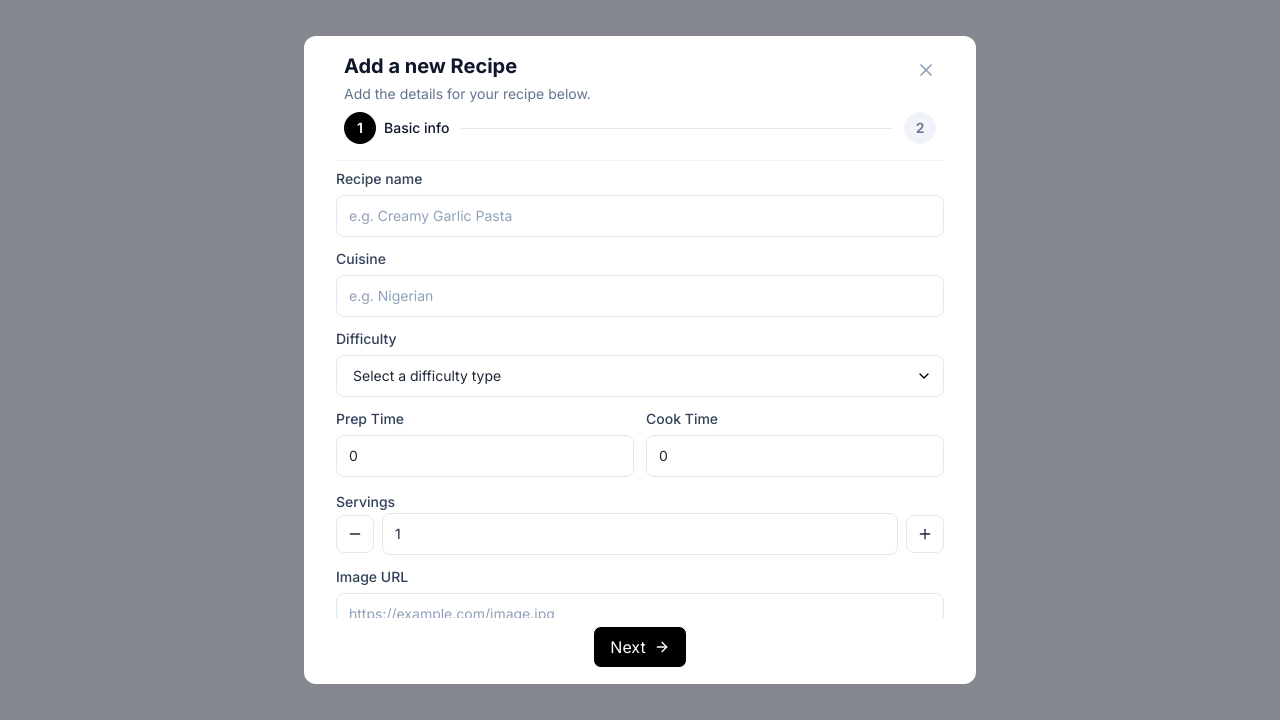
Scenario: AddRecipeModal › allows adding another instruction
Type "Jollof Rice" into the field labelled "Recipe name" at point(640, 216), box [336,195,944,237]
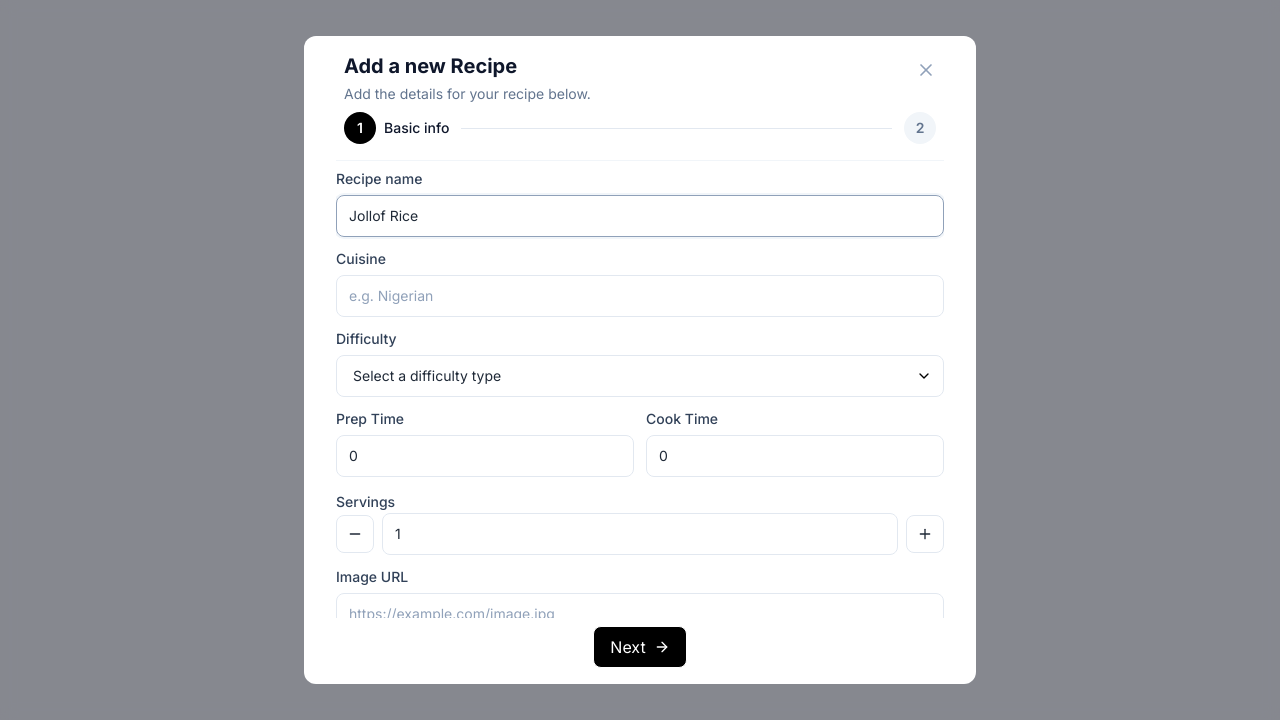
Type "Nigerian" into the field labelled "Cuisine" at point(640, 296), box [336,275,944,317]
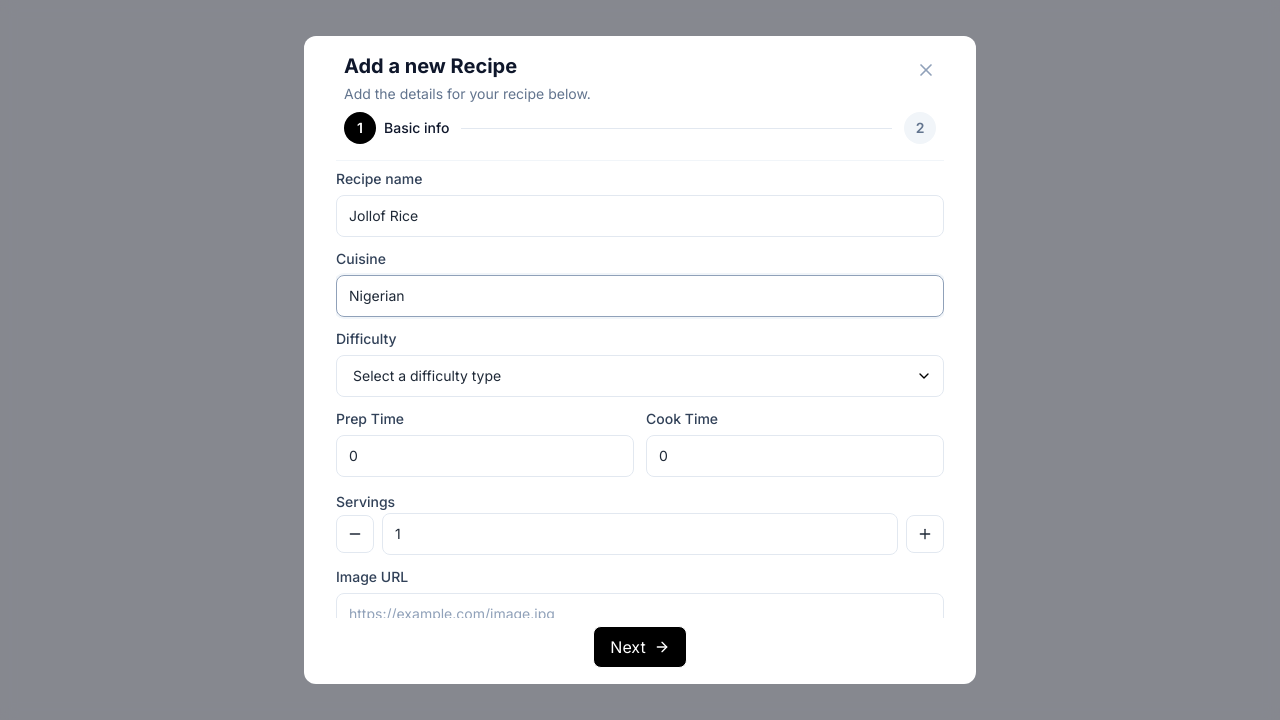
Select "Medium" in the dropdown labelled "Difficulty" at point(640, 376), box [336,355,944,397]
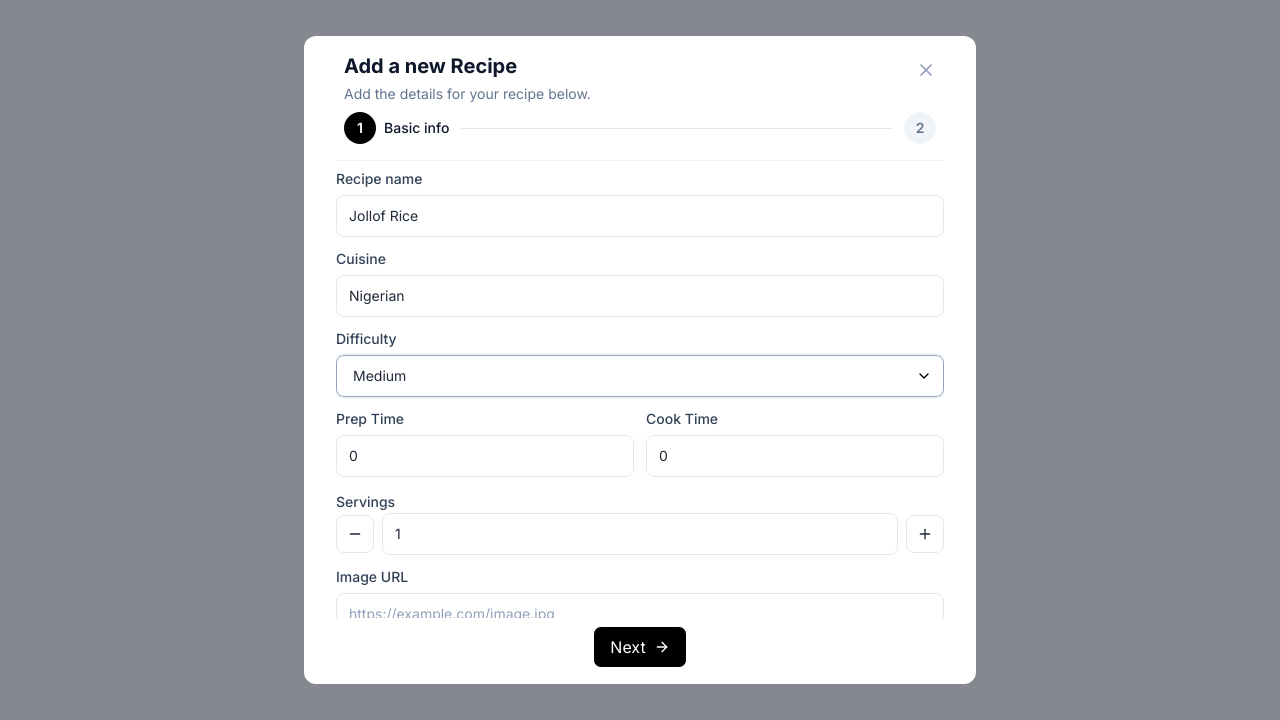
Type "https://example.com/jollof.jpg" into the field labelled "Image URL" at point(640, 614), box [336,593,944,635]
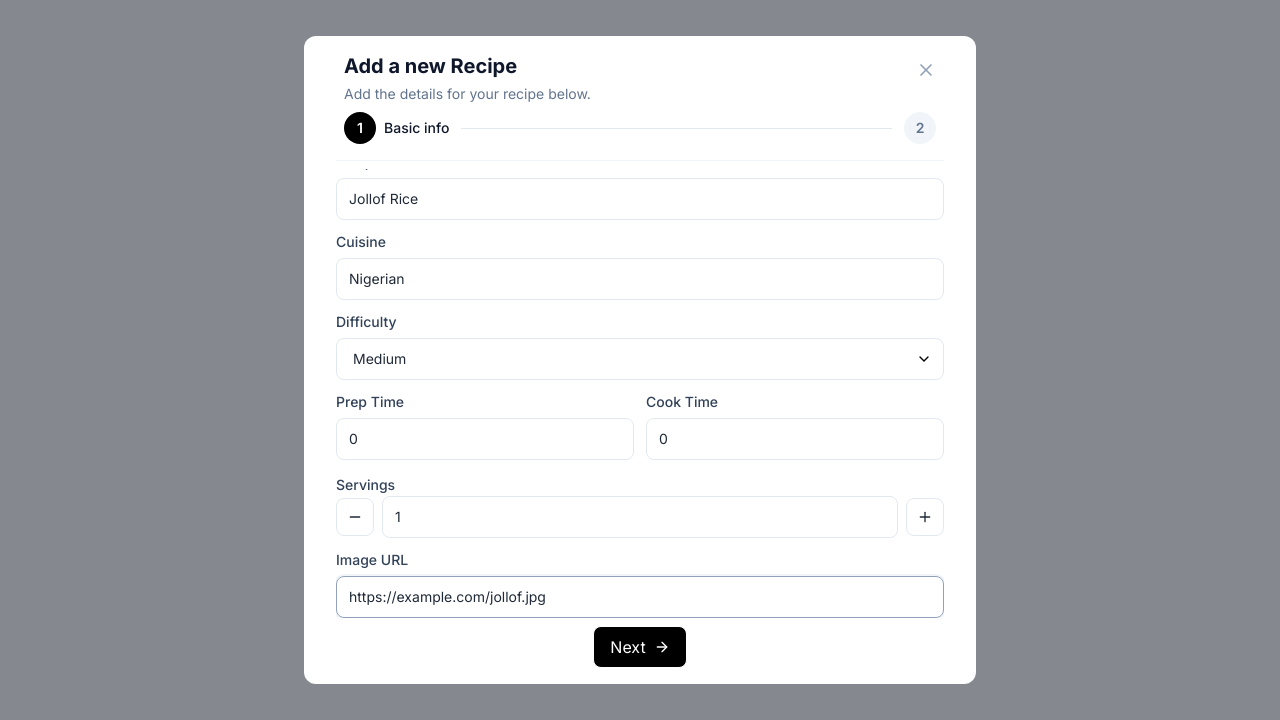
Click the button "Next" at point(640, 647), box [593,626,687,668]
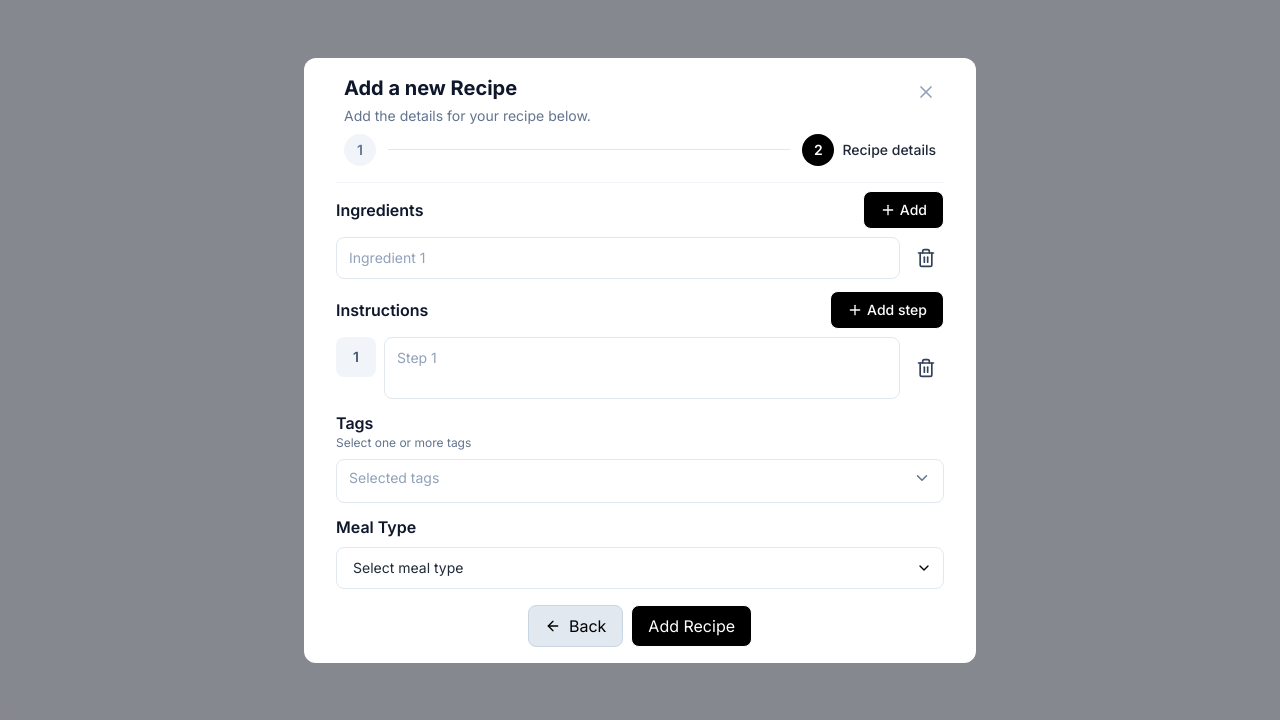
Now the heading "Ingredients" is shown, box [336,198,423,222]
Click the button "Add step" at point(887, 310), box [830,290,944,328]
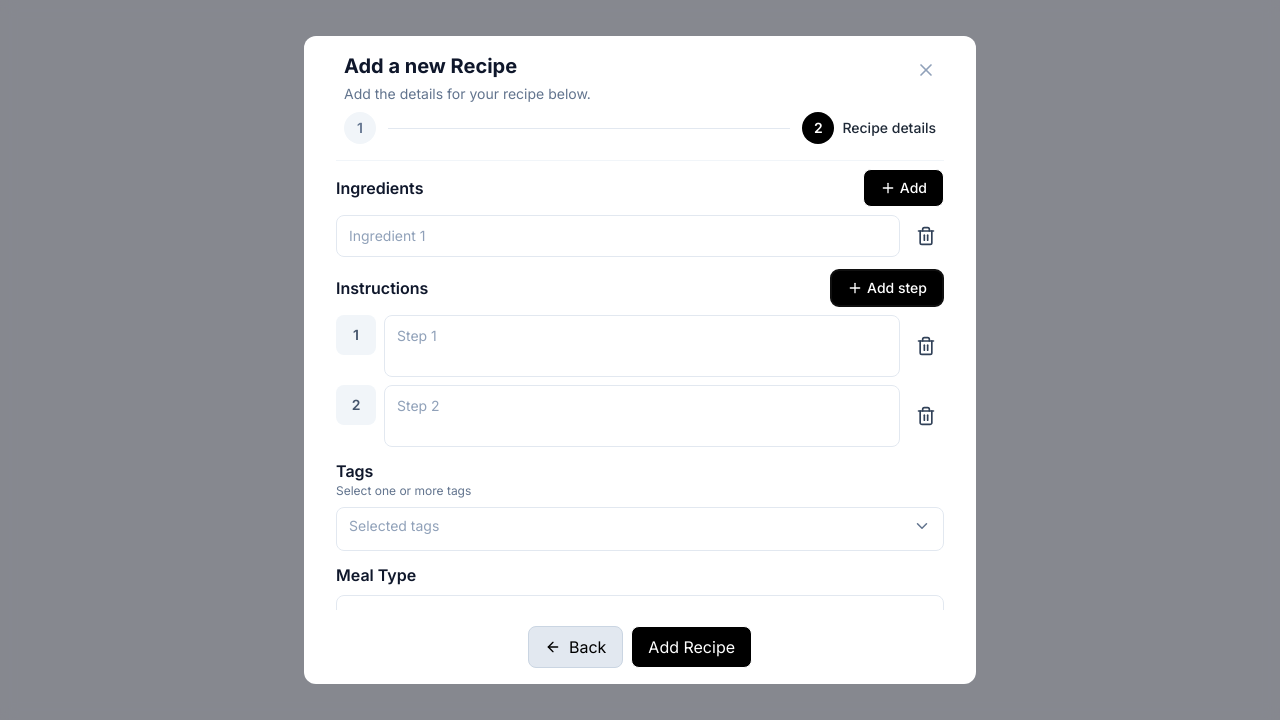
Now the number of text boxes with placeholder "Step 1" is 2, box [384,315,900,377]; [384,385,900,447]
